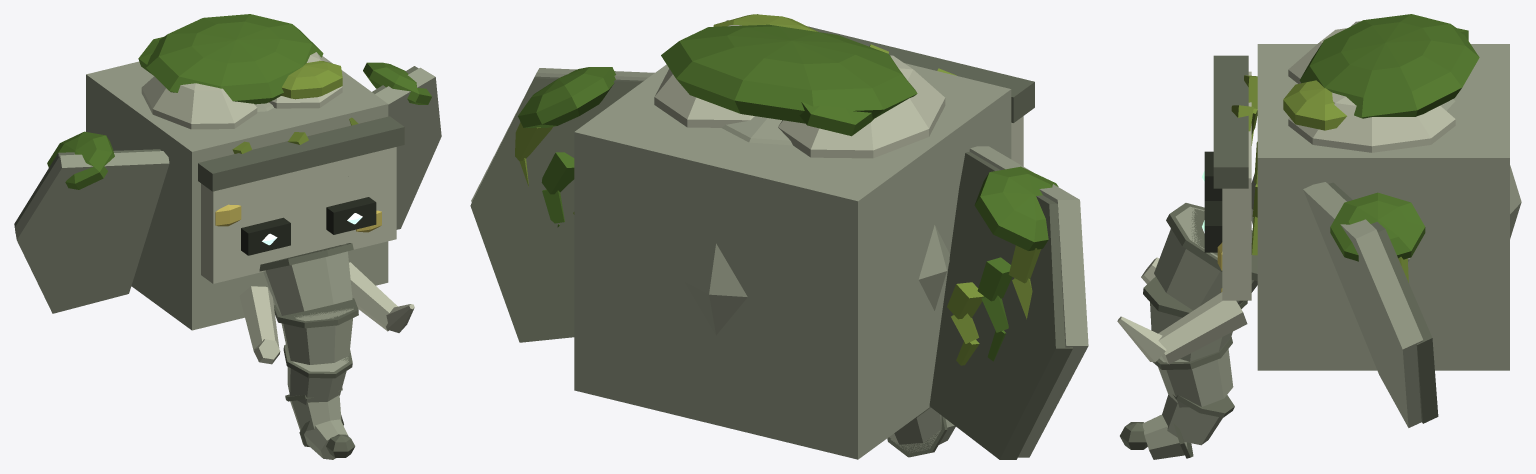
Rendered from terrace_golem_head.glb.
The picture shows the model from 3 angles, left to right: view 1: azimuth 30°, elevation 25°; view 2: azimuth 150°, elevation 25°; view 3: azimuth 270°, elevation 25°; orthographic projection. The views are drawn at different scales.
Parts seen in each view (by area): view 1: terrace_golem_head; view 2: terrace_golem_head; view 3: terrace_golem_head.
Part boxes in pixels (<box>): terrace_golem_head: <box>14,14,441,459</box>; terrace_golem_head: <box>470,14,1088,459</box>; terrace_golem_head: <box>1117,14,1521,459</box>.
Bounding box in the file's own units: 1.99 × 1.57 × 1.38.
